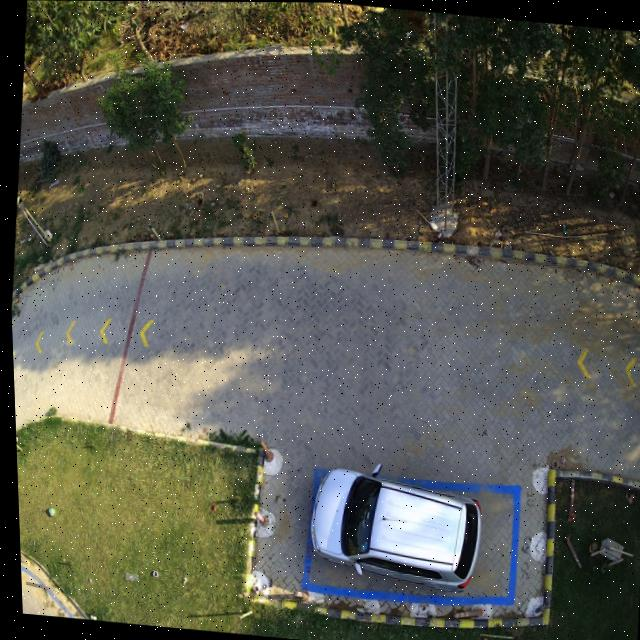car: (306, 463, 477, 590)
